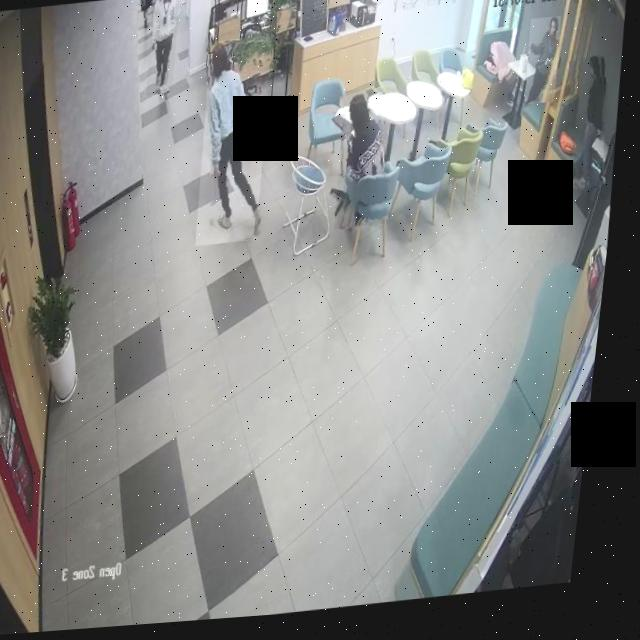person: (194, 39, 280, 250), (335, 91, 403, 235), (563, 63, 618, 201), (144, 0, 183, 98), (524, 24, 565, 113), (136, 0, 157, 31)
